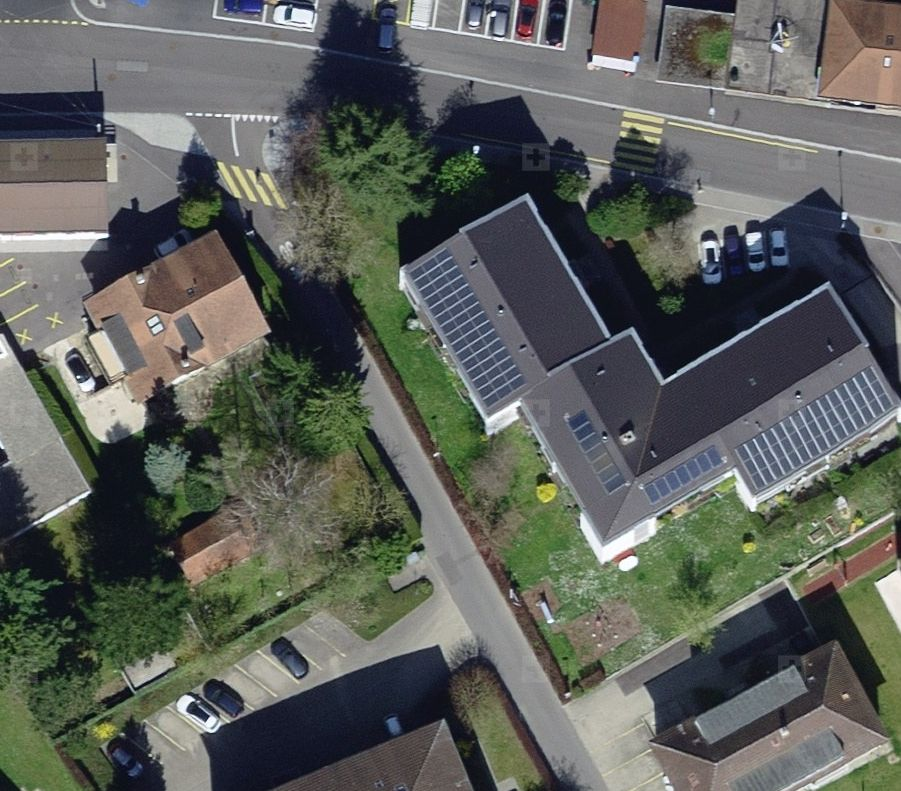solar: (731, 364, 895, 492), (411, 249, 528, 413), (550, 397, 634, 503), (636, 440, 729, 512)
